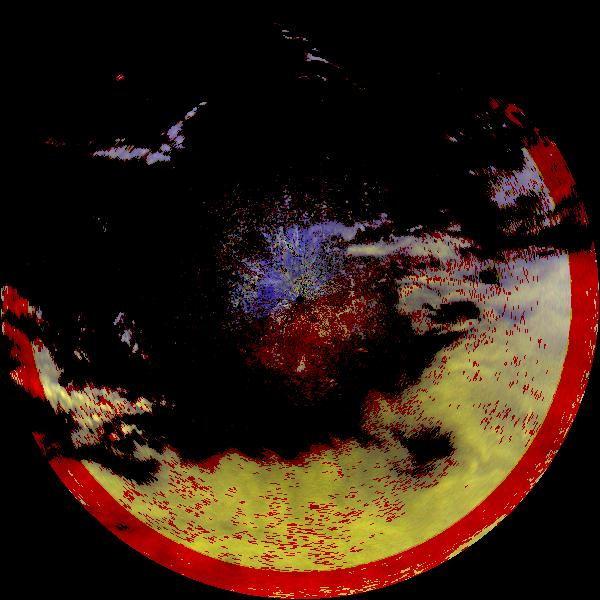roost: (277, 348, 316, 387)
